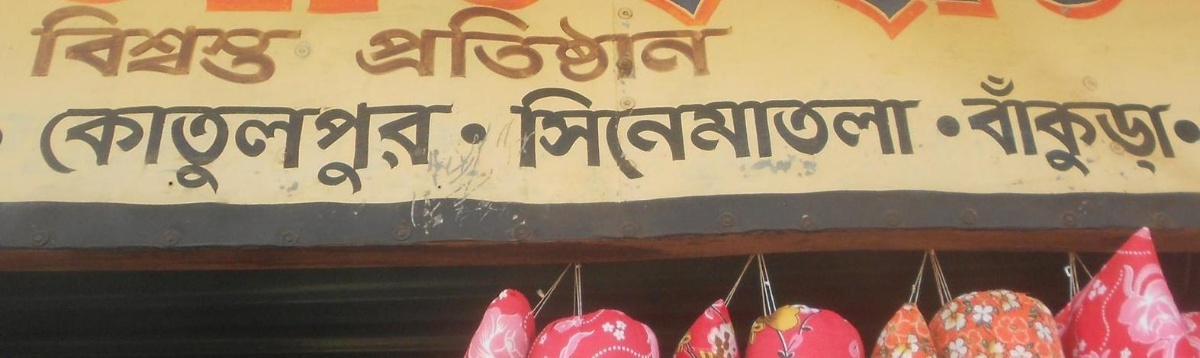text: (961, 72, 976, 180), (977, 72, 992, 180), (993, 72, 1008, 180), (1009, 72, 1024, 180), (1025, 72, 1040, 180), (1041, 72, 1056, 180), (1057, 72, 1072, 180), (1073, 72, 1088, 180), (1089, 72, 1104, 180), (1105, 72, 1120, 180), (1121, 72, 1136, 180), (1137, 72, 1152, 180), (1153, 72, 1168, 180), (1169, 72, 1184, 180), (33, 97, 48, 197), (49, 97, 64, 197), (65, 97, 80, 197), (81, 97, 96, 197), (97, 97, 112, 197), (113, 97, 128, 197), (129, 97, 144, 197), (145, 97, 160, 197), (161, 97, 176, 197), (177, 97, 192, 197), (193, 97, 208, 197), (209, 97, 224, 197), (225, 97, 240, 197), (241, 97, 256, 197), (257, 97, 272, 197), (273, 97, 288, 197), (289, 97, 304, 197), (305, 97, 320, 197), (321, 97, 336, 197), (337, 97, 352, 197), (353, 97, 368, 197), (369, 97, 384, 197), (385, 97, 400, 197), (401, 97, 416, 197), (417, 97, 432, 197), (433, 97, 448, 197), (497, 85, 512, 185), (513, 85, 528, 185), (529, 85, 544, 185), (545, 85, 560, 185), (561, 85, 576, 185), (577, 85, 592, 185), (593, 85, 608, 185), (609, 85, 624, 185), (625, 85, 640, 185), (641, 85, 656, 185), (657, 85, 672, 185), (673, 85, 688, 185), (689, 85, 704, 185), (705, 85, 720, 185), (721, 85, 736, 185), (737, 85, 752, 185), (753, 85, 768, 185), (769, 85, 784, 185), (785, 85, 800, 185), (801, 85, 816, 185), (817, 85, 832, 185), (833, 85, 848, 185), (849, 85, 864, 185), (865, 85, 880, 185), (881, 85, 896, 185), (897, 85, 912, 185), (913, 85, 928, 185), (49, 1, 64, 89), (65, 1, 80, 89), (81, 1, 96, 89), (97, 1, 112, 89), (113, 1, 128, 89), (129, 1, 144, 89), (145, 1, 160, 89), (161, 1, 176, 89), (177, 1, 192, 89), (193, 1, 208, 89), (209, 1, 224, 89), (225, 1, 240, 89), (241, 1, 256, 89), (257, 1, 272, 89), (273, 1, 288, 89), (289, 1, 304, 89), (369, 3, 384, 91), (385, 3, 400, 91), (401, 3, 416, 91), (417, 3, 432, 91), (433, 3, 448, 91), (449, 3, 464, 91), (465, 3, 480, 91), (481, 3, 496, 91), (497, 3, 512, 91), (513, 3, 528, 91), (529, 3, 544, 91), (545, 3, 560, 91), (561, 3, 576, 91), (577, 3, 592, 91), (593, 3, 608, 91), (609, 3, 624, 91), (625, 3, 640, 91), (641, 3, 656, 91), (657, 3, 672, 91), (673, 3, 688, 91), (689, 3, 704, 91), (705, 3, 720, 91), (721, 3, 736, 91), (34, 1, 48, 89), (449, 97, 461, 197), (358, 3, 368, 91), (1185, 72, 1193, 180), (953, 72, 960, 180), (833, 3, 848, 38), (849, 3, 864, 38), (865, 3, 880, 38), (881, 3, 896, 38), (897, 3, 912, 38), (913, 3, 928, 38), (929, 3, 944, 38), (945, 3, 960, 38), (961, 3, 976, 38), (977, 3, 992, 38), (993, 3, 1008, 38), (1009, 3, 1024, 38), (1025, 3, 1040, 38), (1041, 3, 1056, 38), (1057, 3, 1072, 38), (1073, 3, 1088, 38), (1089, 3, 1104, 38), (737, 3, 742, 91), (1105, 3, 1117, 38), (945, 112, 960, 139), (1185, 118, 1200, 144), (465, 122, 480, 145), (1172, 118, 1184, 144), (933, 112, 944, 139), (481, 122, 488, 145), (458, 122, 464, 145), (495, 85, 496, 185), (305, 1, 306, 89), (961, 112, 962, 139)
